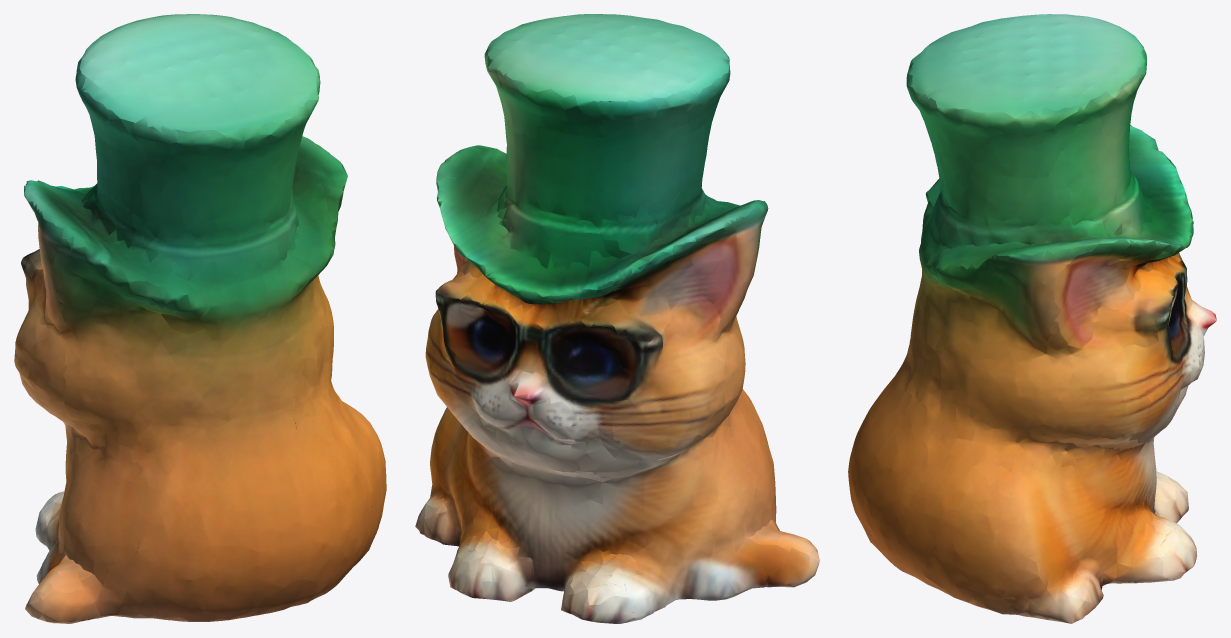
File: a cat with a green top hat and.glb
3 renders of one model, left to right at view 1: azimuth 30°, elevation 25°; view 2: azimuth 150°, elevation 25°; view 3: azimuth 270°, elevation 25°, orthographic. The views are drawn at different scales.
Visible parts, largest first — view 1: world; view 2: world; view 3: world.
Boxes of the visible parts, bbox=[...] form: world: bbox=[14, 14, 386, 623]; world: bbox=[415, 14, 819, 623]; world: bbox=[848, 14, 1216, 623].
Bounding box in the file's own units: 0.6111 × 0.8247 × 0.5491.
1 material, 1 textured.
